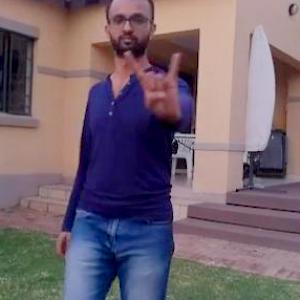takeoff-hand: (119, 45, 191, 123)
